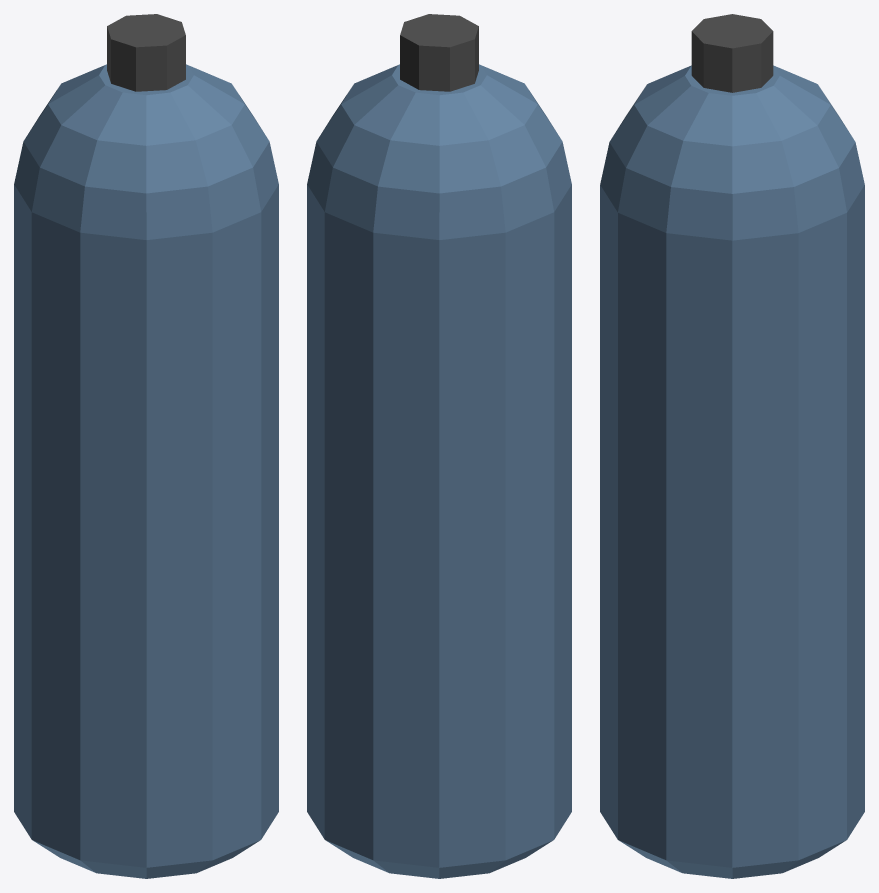
File: water_bottle.glb
The picture shows the model from 3 angles, left to right: view 1: azimuth 30°, elevation 25°; view 2: azimuth 150°, elevation 25°; view 3: azimuth 270°, elevation 25°; orthographic projection.
Visible parts, largest first — view 1: water_bottle; view 2: water_bottle; view 3: water_bottle.
Part boxes in pixels (x1=…): water_bottle: x1=14, y1=14, x2=278, y2=878; water_bottle: x1=307, y1=14, x2=571, y2=878; water_bottle: x1=600, y1=14, x2=864, y2=878.
Bounding box in the file's own units: 0.0745 × 0.25 × 0.0745.
